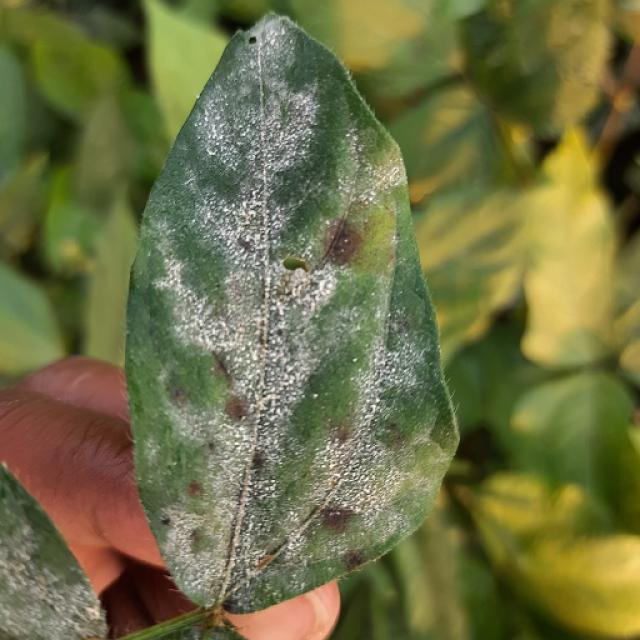Blackgram: (126, 15, 458, 611)
Powdery_Mildew: (181, 78, 333, 404), (236, 306, 415, 570), (151, 231, 258, 371), (316, 338, 406, 489), (194, 69, 291, 194), (247, 227, 351, 339), (224, 187, 293, 331), (366, 309, 434, 445), (249, 330, 309, 468), (340, 479, 416, 552), (0, 538, 61, 620), (198, 105, 260, 178), (158, 502, 217, 563), (246, 450, 292, 506), (229, 190, 276, 243), (361, 147, 408, 196), (370, 350, 413, 402), (215, 410, 251, 469), (269, 343, 306, 399), (253, 20, 299, 58), (8, 514, 39, 561), (239, 338, 262, 372), (183, 571, 211, 598), (325, 463, 350, 493), (352, 477, 376, 505), (313, 274, 336, 303), (362, 388, 384, 417), (260, 474, 279, 499), (259, 391, 280, 408), (315, 455, 331, 472), (205, 145, 218, 157), (275, 303, 286, 317), (287, 508, 298, 521), (246, 208, 257, 219), (169, 459, 177, 468), (312, 392, 319, 399), (352, 357, 359, 363)
